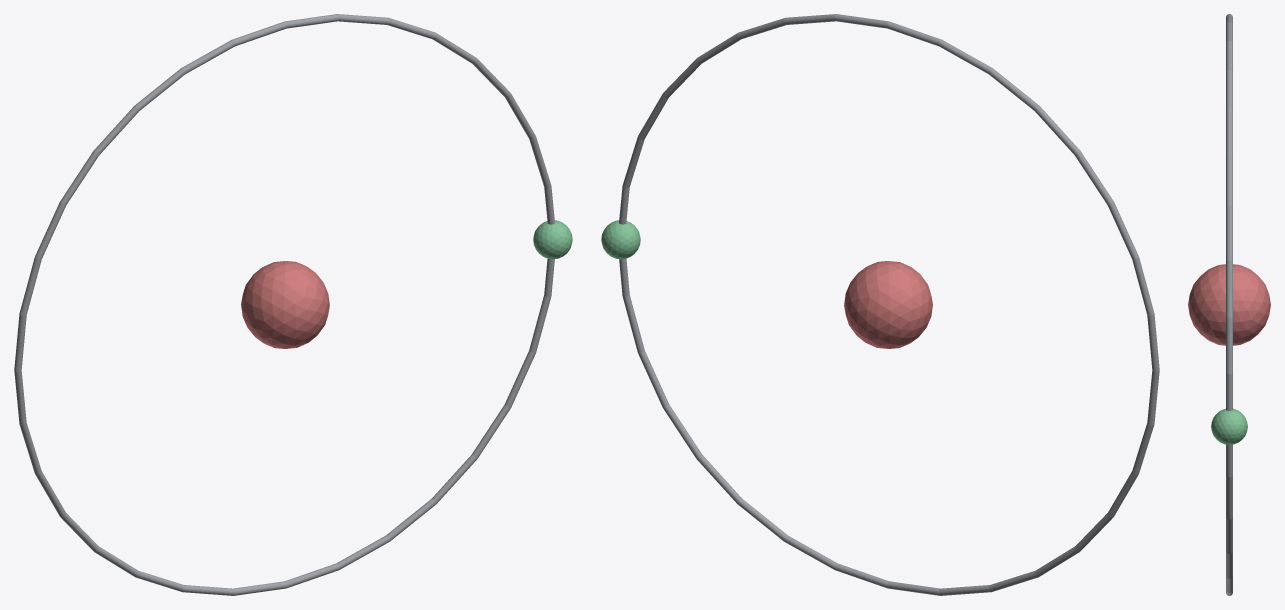
File: hydrogen_atom.glb
The picture shows the model from 3 angles, left to right: view 1: azimuth 30°, elevation 25°; view 2: azimuth 150°, elevation 25°; view 3: azimuth 270°, elevation 25°; orthographic projection. The views are drawn at different scales.
Visible parts, largest first — view 1: shell_1, p_1, electron_1; view 2: shell_1, p_1, electron_1; view 3: p_1, shell_1, electron_1.
Boxes of the visible parts, x1,y1,x2,y2 form: shell_1: (14, 14, 554, 595); p_1: (241, 261, 329, 348); electron_1: (533, 220, 572, 259); shell_1: (619, 14, 1159, 595); p_1: (844, 261, 932, 348); electron_1: (601, 220, 640, 259); p_1: (1188, 264, 1270, 345); shell_1: (1226, 14, 1232, 595); electron_1: (1211, 408, 1247, 444).
Size of the model in its own units: 2.59 by 2.53 by 0.36.
